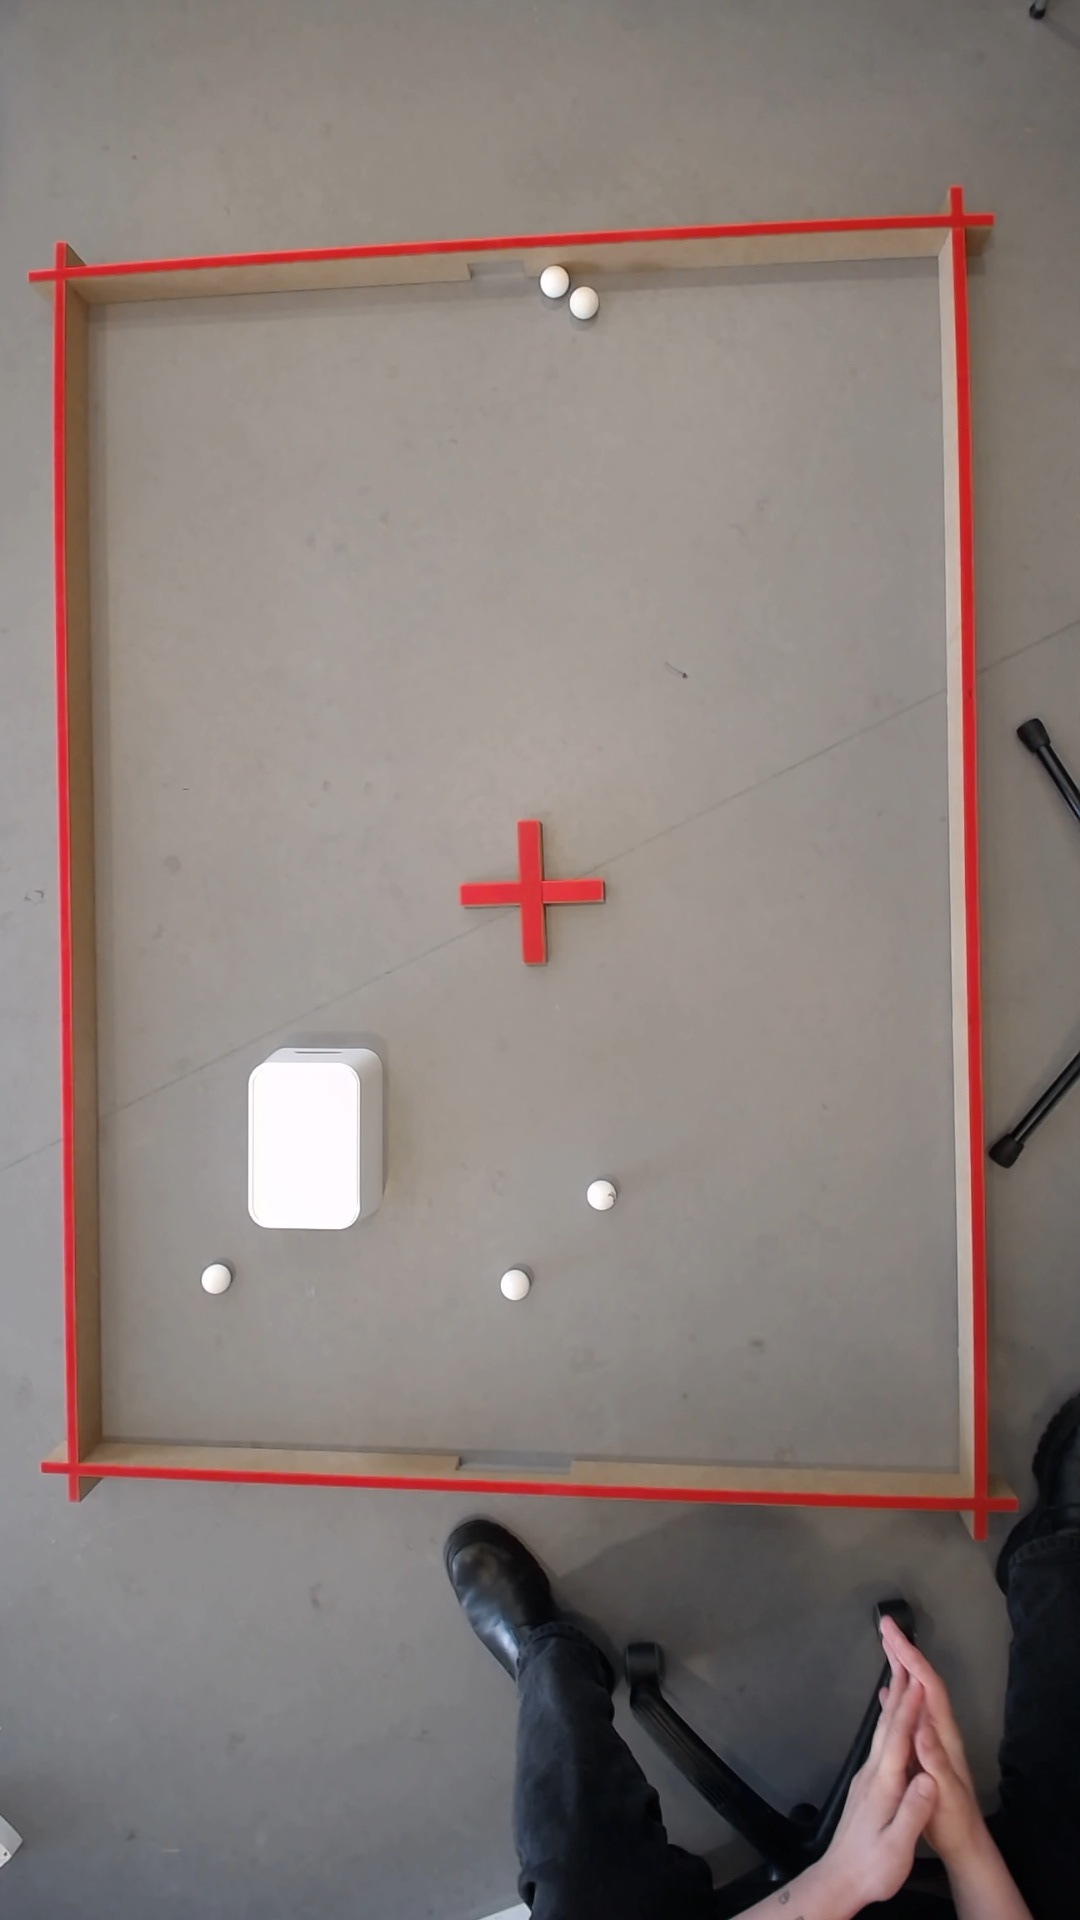balls: (248, 1054, 360, 1229), (849, 1818, 881, 1869), (582, 1175, 616, 1212), (495, 1265, 527, 1302), (196, 1258, 228, 1294), (563, 285, 595, 319), (876, 1747, 895, 1784), (539, 268, 563, 297)
car: (869, 1724, 885, 1760)
